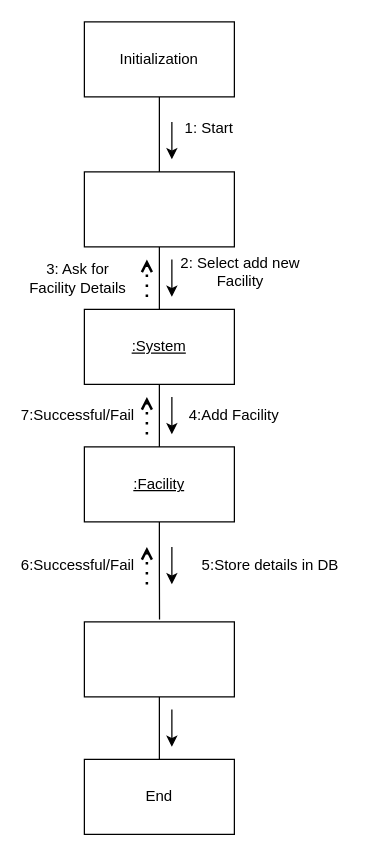
This 374x856 diagram has some shape labels left out. The box of each missing label's shape, as (x1, y1, x2, y2) in pixels:
:Admin: (83, 171, 234, 247)
:DB: (83, 621, 234, 697)
